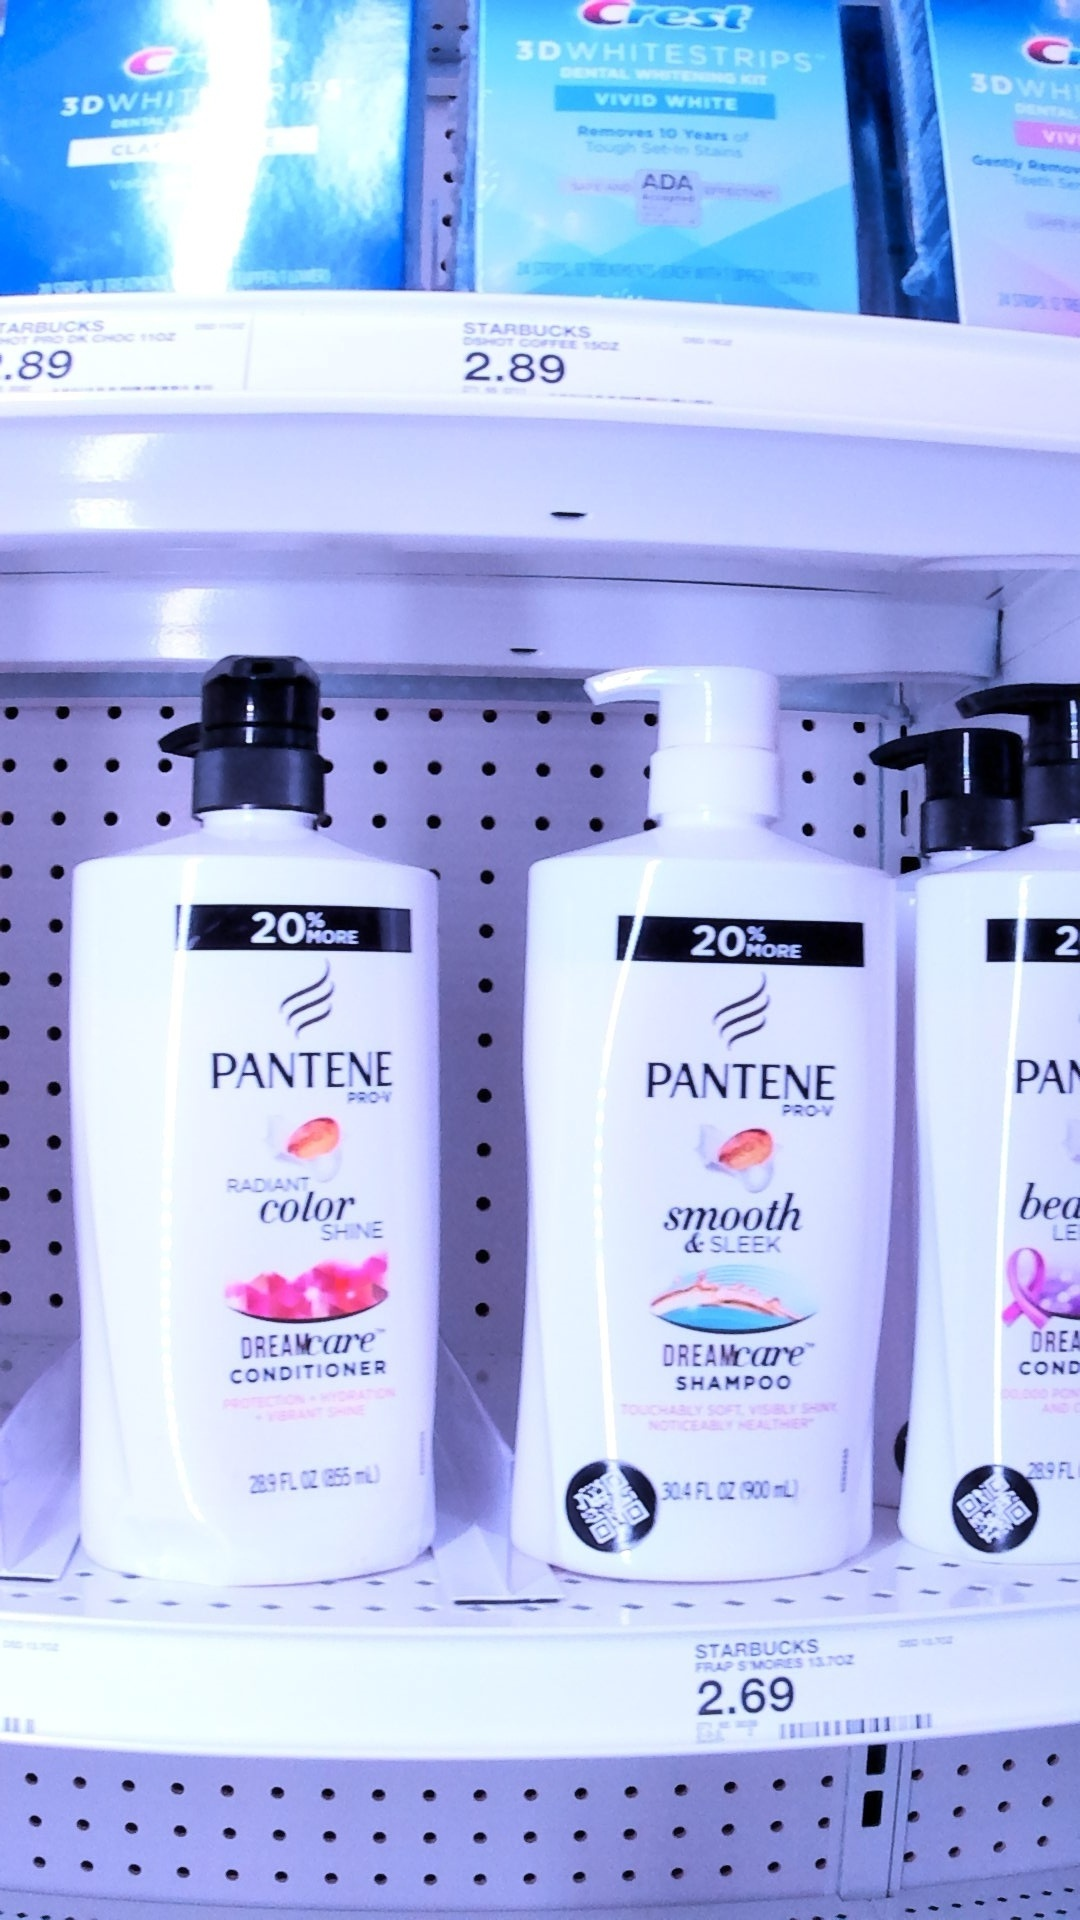ptag: (684, 1622, 982, 1741), (448, 302, 742, 419), (1, 305, 251, 415)
